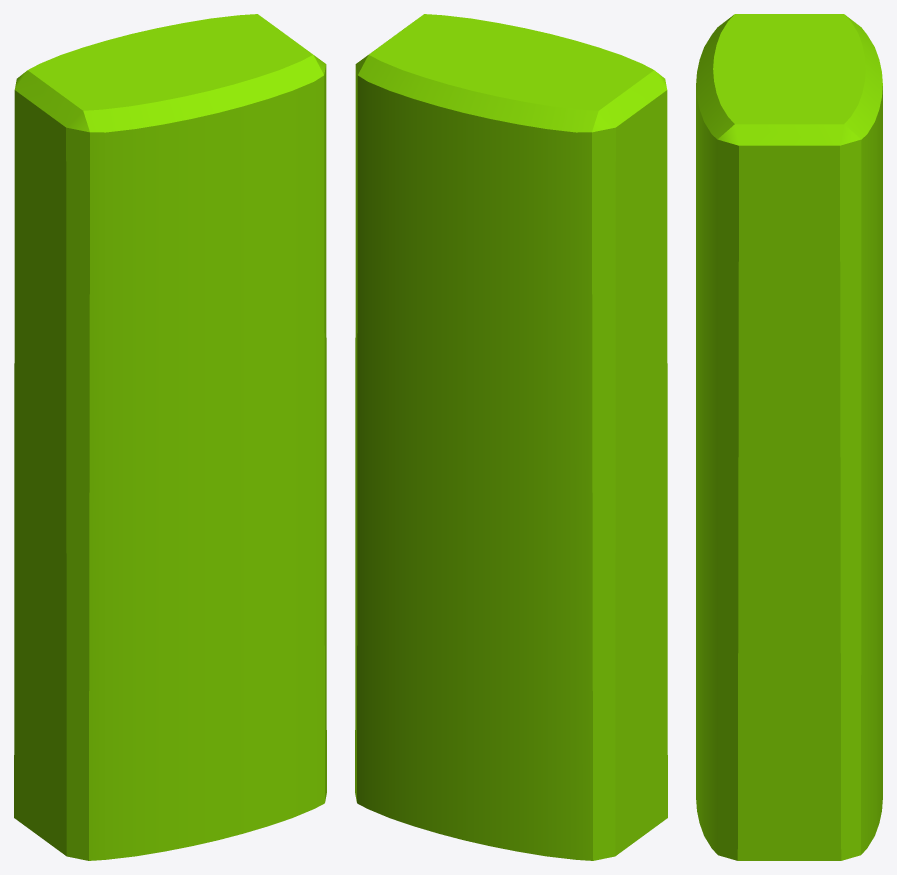
File: Building_02_Green.fbx
The picture shows the model from 3 angles, left to right: view 1: azimuth 30°, elevation 25°; view 2: azimuth 150°, elevation 25°; view 3: azimuth 270°, elevation 25°; orthographic projection.
Visible parts, largest first — view 1: Building02_Green; view 2: Building02_Green; view 3: Building02_Green.
Boxes of the visible parts, x1,y1,x2,y2 form: Building02_Green: (14,14,326,860); Building02_Green: (355,14,667,860); Building02_Green: (696,14,882,860).
Size of the model in its own units: 1435 by 3918 by 910.
